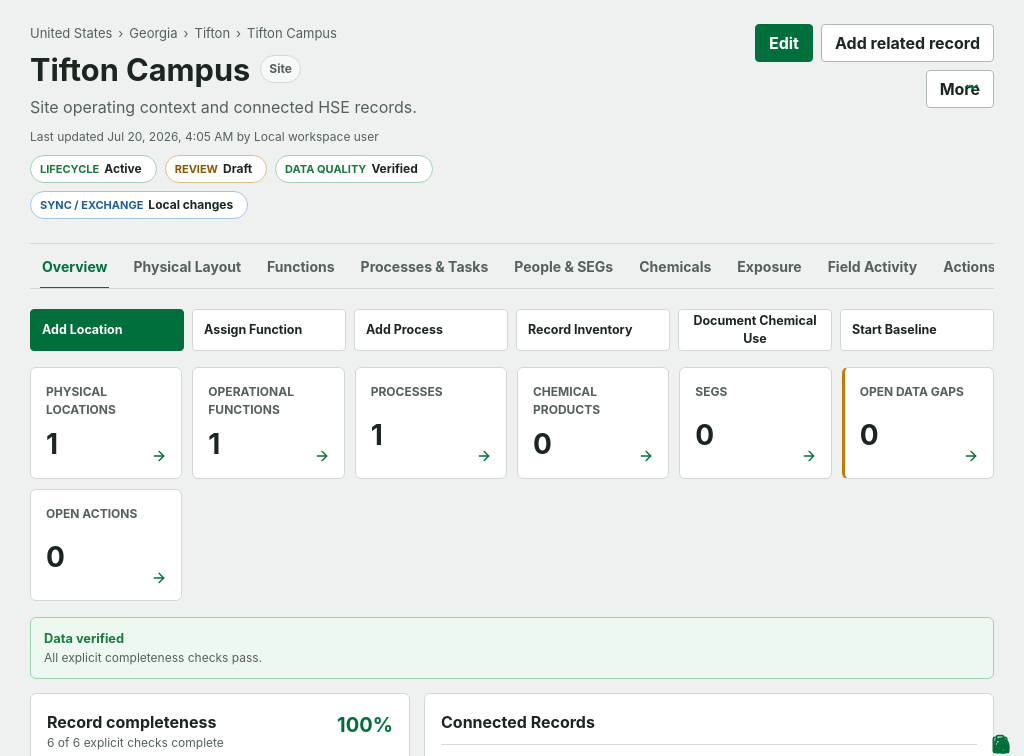
Test: operational foundation workspaces › renders a Site as a contextual workspace with explicit states, actions, tabs, and Connected Records
Expected: the heading "Tifton Campus" is shown, left=30, top=52, right=250, bottom=86
Expected: the text "Lifecycle" is shown, left=40, top=161, right=99, bottom=178
Step 1. Click the button "More" → [960, 89], box left=926, top=70, right=994, bottom=108
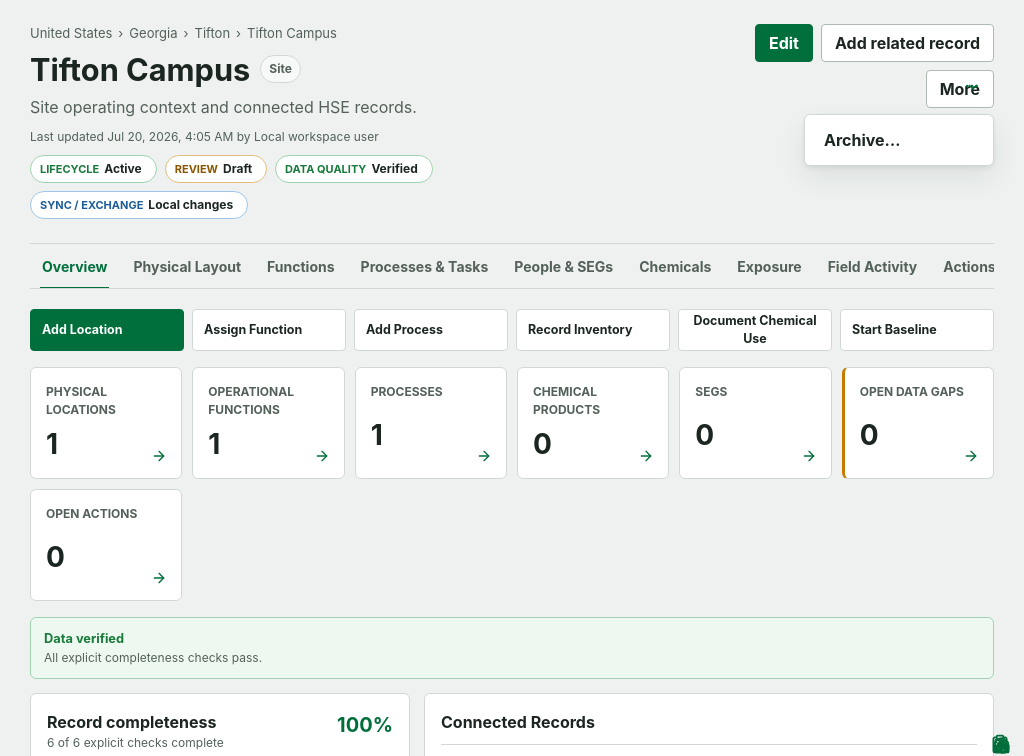
Now the menu item "Archive…" is shown, box left=811, top=121, right=987, bottom=159
